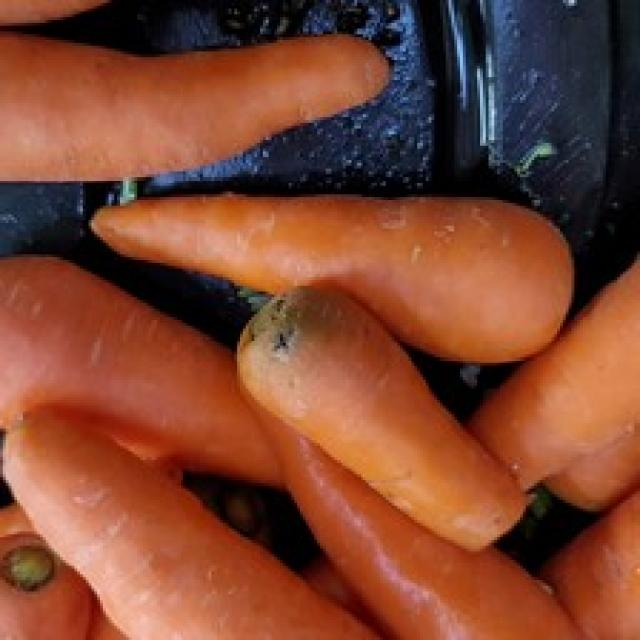Fresh_Carrot: (130, 175, 565, 292), (8, 260, 245, 459)
